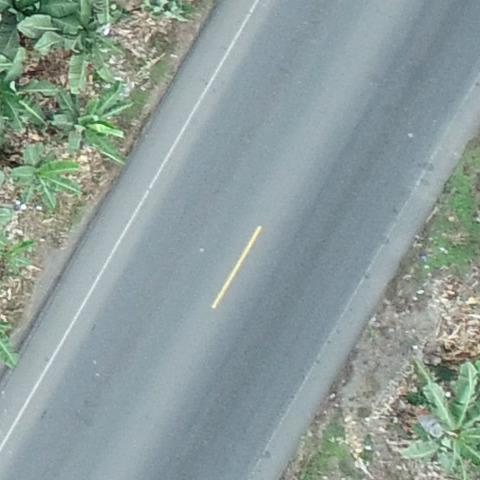Banana-plant: (403, 359, 480, 480), (19, 1, 126, 87), (50, 84, 134, 166), (1, 47, 57, 140), (11, 143, 80, 210)
